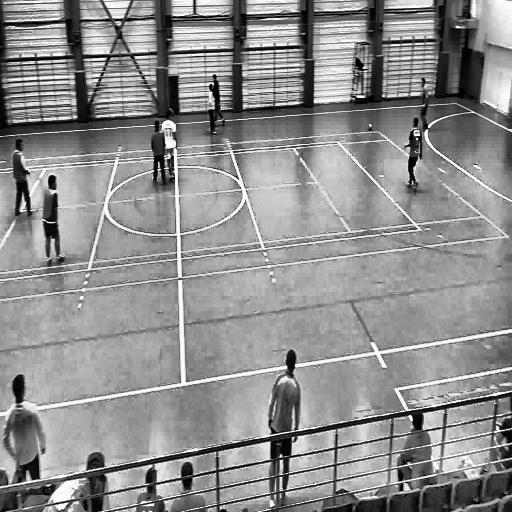ball: (367, 119, 374, 133)
player: (266, 343, 302, 508), (2, 372, 45, 480), (42, 173, 67, 272), (10, 138, 34, 221), (404, 116, 424, 198), (162, 108, 178, 185), (151, 116, 167, 188), (212, 74, 228, 129), (418, 75, 430, 131), (208, 84, 219, 138)
